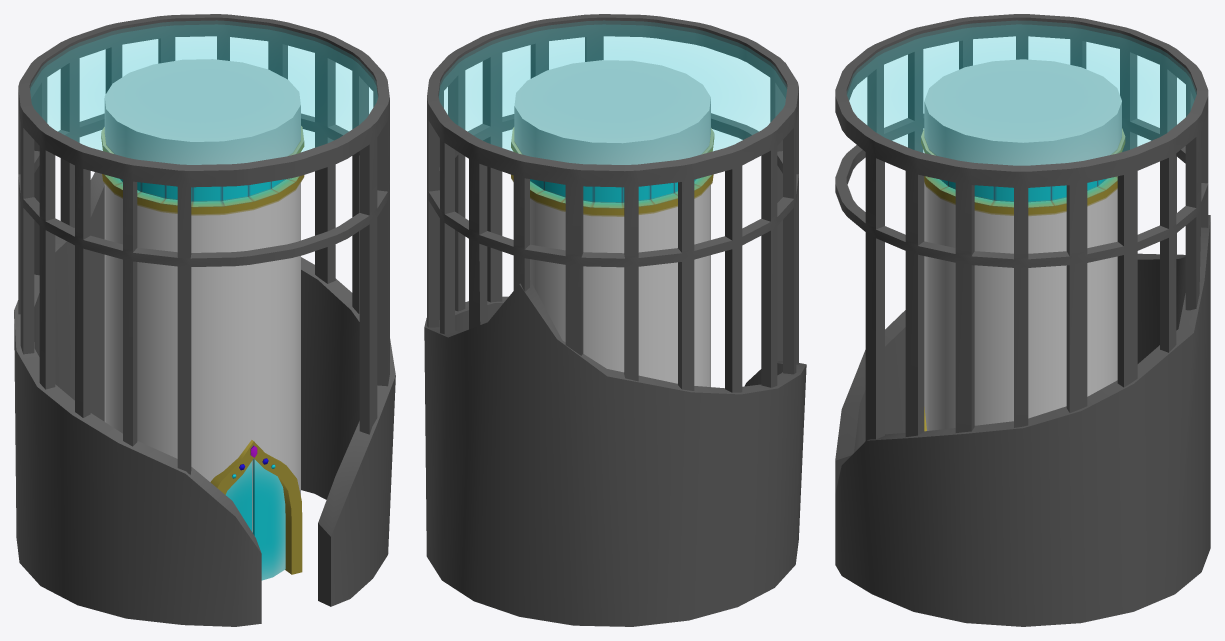
File: model_building01.fbx
The picture shows the model from 3 angles, left to right: view 1: azimuth 30°, elevation 25°; view 2: azimuth 150°, elevation 25°; view 3: azimuth 270°, elevation 25°; orthographic projection.
Parts seen in each view (by area): view 1: polySurface9; view 2: polySurface9; view 3: polySurface9.
Boxes of the visible parts, x1=… form: polySurface9: x1=14, y1=14, x2=395, y2=626; polySurface9: x1=424, y1=14, x2=806, y2=626; polySurface9: x1=835, y1=14, x2=1210, y2=626.
Size of the model in its own units: 10.08 by 13.28 by 9.9.
